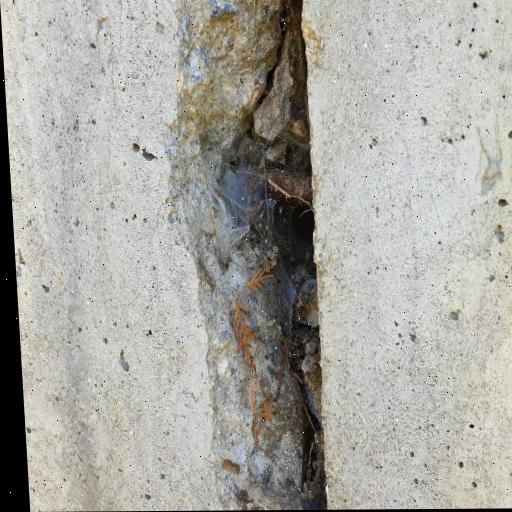exposed_rebar: (235, 165, 313, 206)
